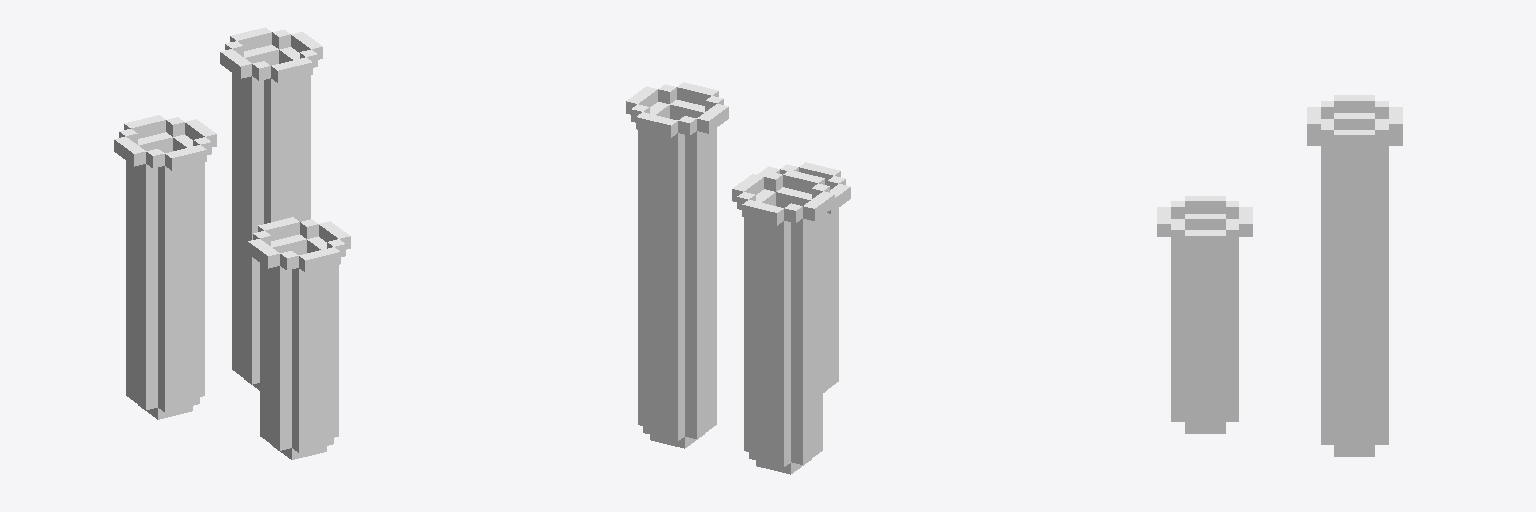
File: antidoto_1.obj
3 views of the same model, side by side, from view 1: azimuth 30°, elevation 25°; view 2: azimuth 150°, elevation 25°; view 3: azimuth 270°, elevation 25° (orthographic).
Visible parts, largest first — view 1: object 1; view 2: object 1; view 3: object 1.
Part boxes in pixels (left/top/right/bottom): object 1: left=114, top=27, right=350, bottom=459; object 1: left=626, top=82, right=850, bottom=474; object 1: left=1157, top=95, right=1402, bottom=456.
Size of the model in its own units: 1.6 by 2.7 by 1.8.